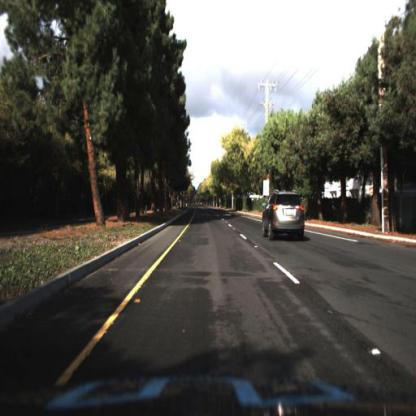car: (263, 190, 307, 242)
